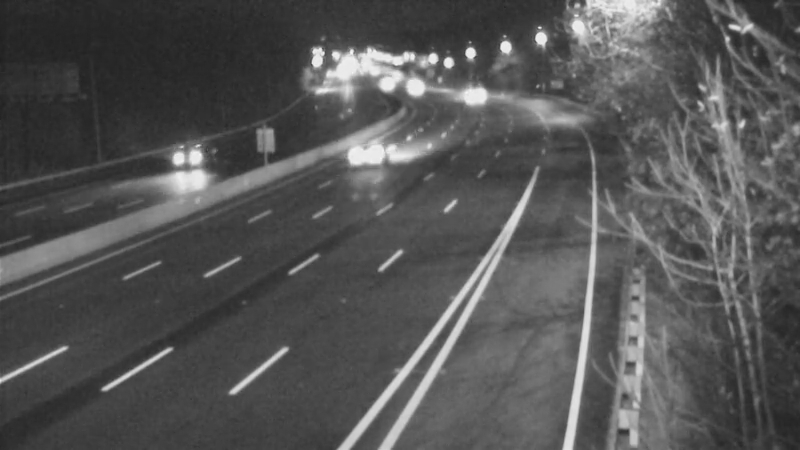vehicle: (324, 116, 404, 196), (157, 114, 237, 194), (363, 60, 413, 110), (385, 62, 435, 112), (441, 69, 491, 119)
